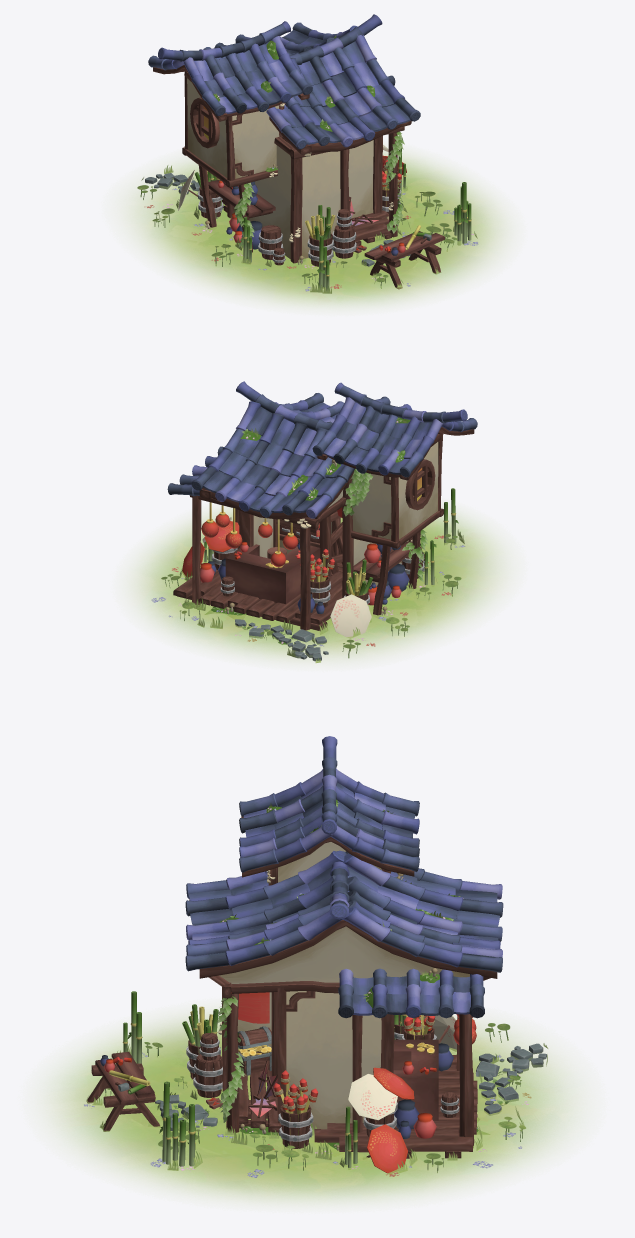
File: chinese_fireworks_shop.glb
3 views of the same model, one above another, from view 1: azimuth 30°, elevation 25°; view 2: azimuth 150°, elevation 25°; view 3: azimuth 270°, elevation 25° (orthographic). The views are drawn at different scales.
Visible parts, largest first — view 1: Plane001, Roof tiles002, Roof tiles005, Wall, Wall003, Wall005, Wall001, Roof tiles007, Wall006, Wood032, Roof tiles003, Roof tiles006 (+13 smaller); view 2: Plane001, Roof tiles003, Roof tiles004, Counter, Wall004, Roof tiles007, Wall006, UmbrellaWhite002, Wood002, Roof tiles006, Wood004, Roof tiles002 (+14 smaller); view 3: Plane001, Roof tiles003, Roof tiles002, Wall002, Roof tiles008, Roof tiles005, Roof tiles004, Wall012, Counter, Wood084, Wood004, UmbrellaWhite001 (+18 smaller).
Boxes of the visible parts, bbox=[...] form: Plane001: bbox=[128, 150, 506, 307]; Roof tiles002: bbox=[266, 34, 420, 149]; Roof tiles005: bbox=[183, 36, 312, 116]; Wall: bbox=[302, 151, 340, 258]; Wall003: bbox=[232, 105, 279, 178]; Wall005: bbox=[233, 145, 291, 258]; Wall001: bbox=[348, 140, 373, 218]; Roof tiles007: bbox=[158, 21, 290, 61]; Wall006: bbox=[187, 78, 227, 177]; Wood032: bbox=[290, 157, 302, 263]; Roof tiles003: bbox=[185, 22, 357, 55]; Roof tiles006: bbox=[290, 14, 382, 64]; Plane001: bbox=[132, 507, 506, 660]; Roof tiles003: bbox=[191, 401, 354, 518]; Roof tiles004: bbox=[312, 397, 443, 477]; Counter: bbox=[225, 544, 320, 604]; Wall004: bbox=[352, 474, 391, 539]; Roof tiles007: bbox=[334, 382, 467, 423]; Wall006: bbox=[398, 442, 438, 539]; UmbrellaWhite002: bbox=[330, 594, 371, 638]; Wood002: bbox=[300, 525, 310, 630]; Roof tiles006: bbox=[236, 381, 332, 431]; Wood004: bbox=[192, 495, 201, 604]; Roof tiles002: bbox=[275, 393, 344, 430]; Plane001: bbox=[47, 1010, 577, 1203]; Roof tiles003: bbox=[342, 851, 503, 972]; Roof tiles002: bbox=[185, 851, 344, 971]; Wall002: bbox=[286, 991, 381, 1133]; Roof tiles008: bbox=[338, 968, 484, 1018]; Roof tiles005: bbox=[239, 769, 332, 872]; Roof tiles004: bbox=[331, 768, 419, 872]; Wall012: bbox=[219, 926, 469, 983]; Counter: bbox=[393, 1039, 438, 1120]; Wood084: bbox=[199, 920, 497, 978]; Wood004: bbox=[459, 1014, 474, 1147]; UmbrellaWhite001: bbox=[348, 1074, 397, 1120].
Size of the model in its own units: 3.5 by 1.91 by 3.74.
Materials: 3 (3 with a texture image).
